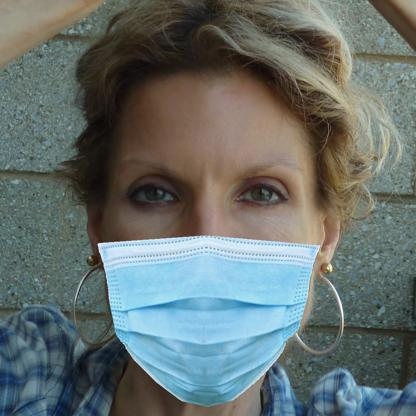mask: (98, 232, 317, 409)
